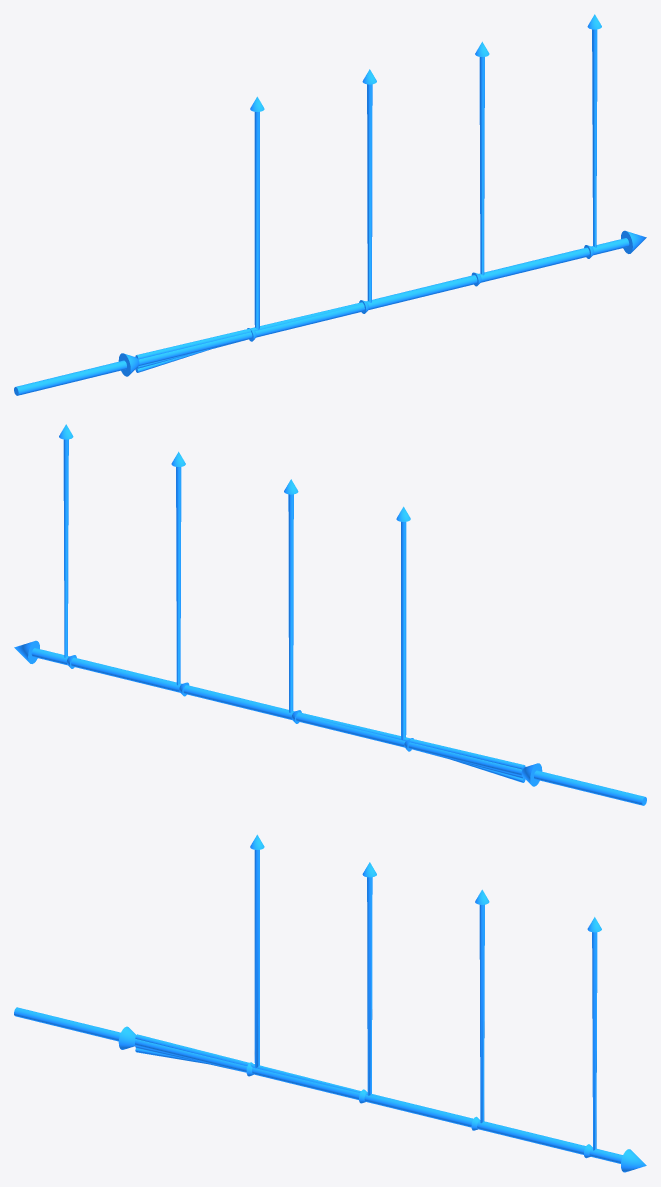
Rendered from pipe_manifold_flow.glb.
3 views of the same model, one above another, from view 1: azimuth 30°, elevation 25°; view 2: azimuth 150°, elevation 25°; view 3: azimuth 330°, elevation 25° (orthographic).
Visible parts, largest first — view 1: header.001, branch_4, branch_1, branch_2, branch_3; view 2: header.001, branch_4, branch_1, branch_2, branch_3; view 3: header.001, branch_4, branch_1, branch_2, branch_3.
Part boxes in pixels (bbox=[...]): header.001: bbox=[14, 230, 646, 395]; branch_4: bbox=[135, 14, 601, 359]; branch_1: bbox=[135, 96, 264, 372]; branch_2: bbox=[137, 69, 376, 368]; branch_3: bbox=[471, 41, 489, 286]; header.001: bbox=[14, 640, 646, 805]; branch_4: bbox=[59, 424, 525, 769]; branch_1: bbox=[396, 506, 525, 782]; branch_2: bbox=[284, 479, 523, 778]; branch_3: bbox=[171, 451, 189, 696]; header.001: bbox=[14, 1007, 646, 1172]; branch_4: bbox=[135, 917, 601, 1158]; branch_1: bbox=[135, 834, 264, 1076]; branch_2: bbox=[135, 862, 376, 1103]; branch_3: bbox=[471, 889, 489, 1130].
Bounding box in the file's own units: 1.57 × 0.588 × 0.052.
